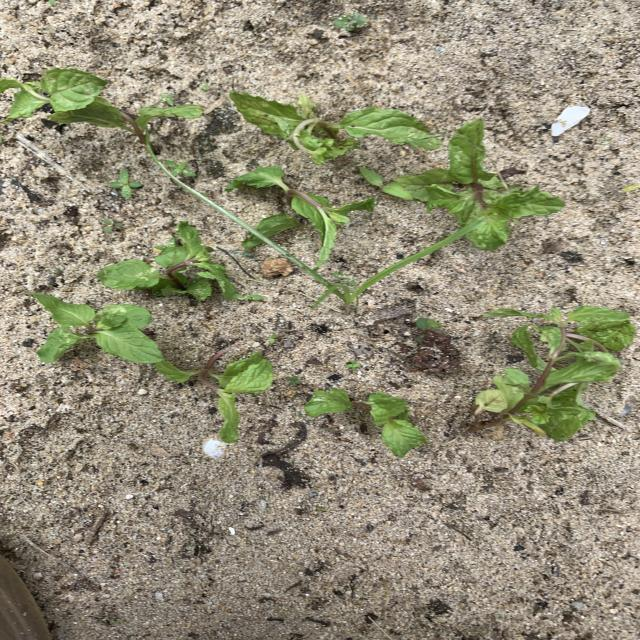crop: (395, 120, 564, 249), (473, 306, 633, 439), (0, 68, 203, 144), (229, 92, 439, 162), (228, 165, 372, 261), (99, 223, 236, 299), (156, 353, 272, 441), (30, 293, 163, 363), (304, 389, 426, 455)
weed: (150, 150, 469, 306), (360, 167, 413, 200), (110, 169, 140, 196), (333, 13, 368, 31), (164, 160, 196, 178), (416, 318, 442, 330), (102, 218, 123, 231), (230, 293, 264, 301), (161, 93, 173, 106), (286, 376, 300, 383), (623, 185, 639, 191), (346, 362, 359, 369), (268, 334, 275, 343)
